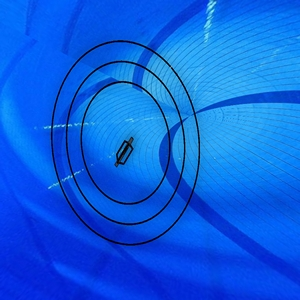circle: (46, 37, 213, 249)
submarine: (111, 133, 136, 171)
